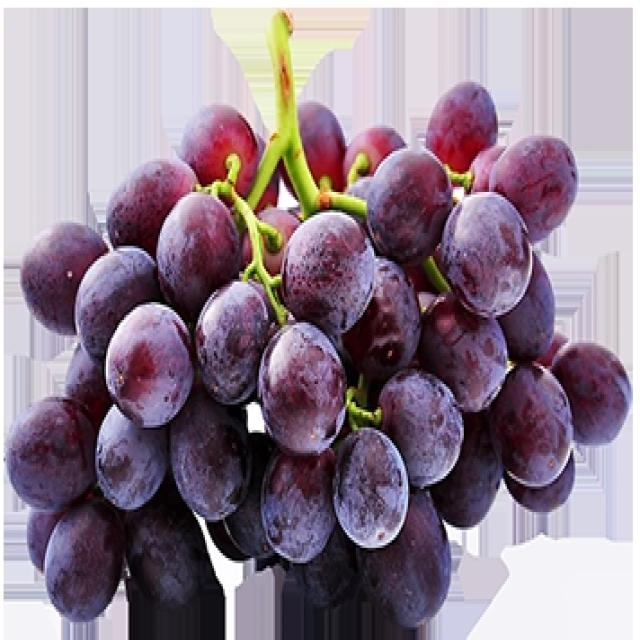grape: (6, 12, 630, 627)
